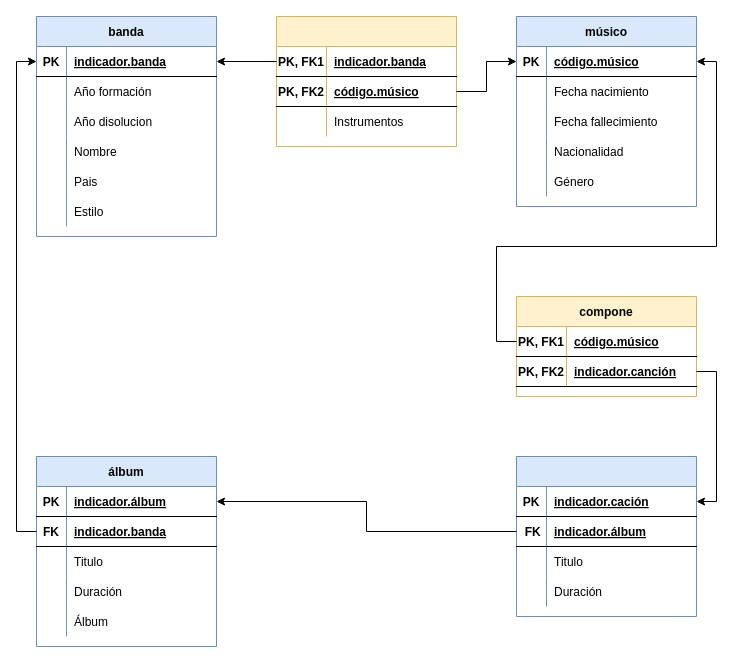
The diagram is 733 pixels wide and 663 high, and some of its shapes have lost their labels. Here are the shapes that lost their labels. From the top down, the box of each, then its label:
(276, 16, 456, 146): forman
(516, 456, 696, 616): canción
